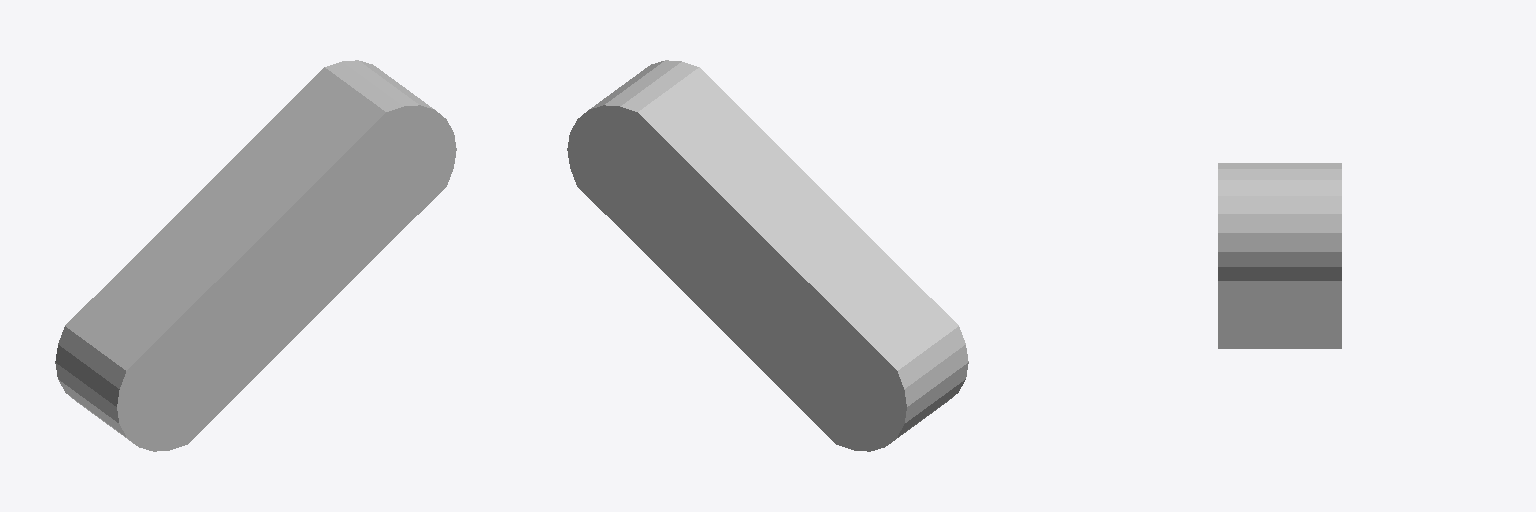
Rendered from Paddle_Right.obj.
The picture shows the model from 3 angles: view 1: azimuth 30°, elevation 25°; view 2: azimuth 150°, elevation 25°; view 3: azimuth 270°, elevation 25°; orthographic projection.
Visible parts, largest first — view 1: Paddle_Right; view 2: Paddle_Right; view 3: Paddle_Right.
Part boxes in pixels (bbox=[...]): Paddle_Right: bbox=[55, 60, 456, 451]; Paddle_Right: bbox=[567, 60, 968, 451]; Paddle_Right: bbox=[1218, 163, 1341, 348].
Size of the model in its own units: 0.1821 by 0.147 by 0.0572.